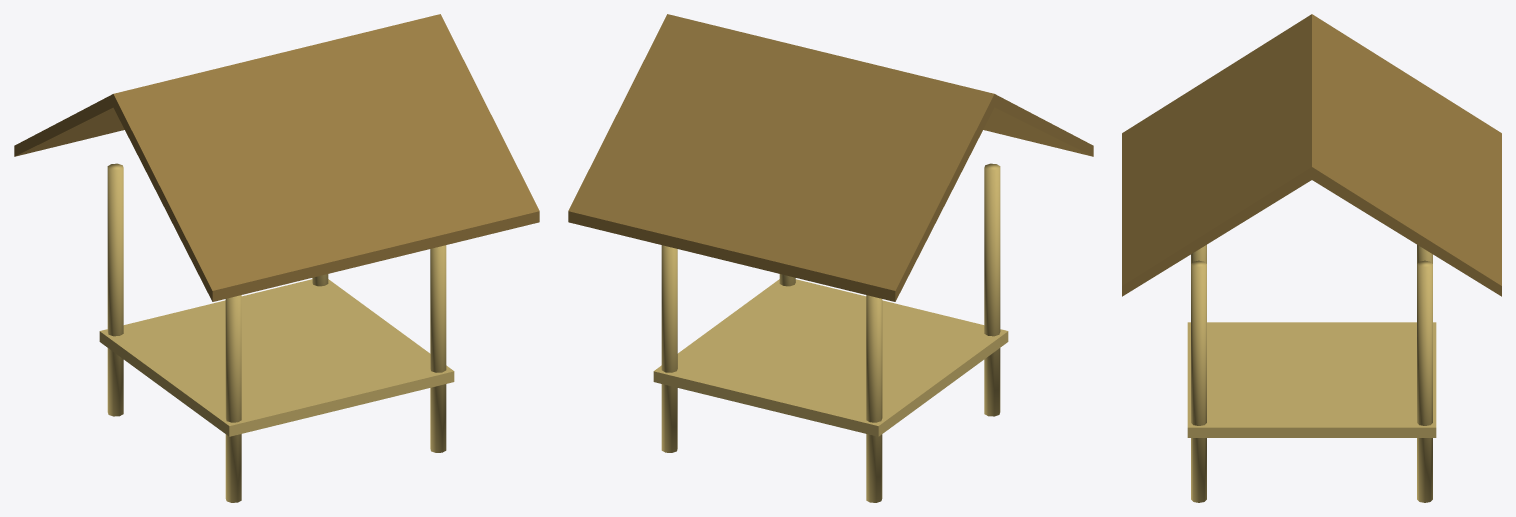
File: prop_gubuk.glb
3 views of the same model, side by side, from view 1: azimuth 30°, elevation 25°; view 2: azimuth 150°, elevation 25°; view 3: azimuth 270°, elevation 25° (orthographic). The views are drawn at different scales.
Parts seen in each view (by area): view 1: gubuk; view 2: gubuk; view 3: gubuk.
Boxes of the visible parts, x1,y1,x2,y2 form: gubuk: [14, 14, 539, 502]; gubuk: [568, 14, 1093, 502]; gubuk: [1122, 14, 1501, 502].
Size of the model in its own units: 3.2 by 3.53 by 3.36.
2 materials, 1 textured.
